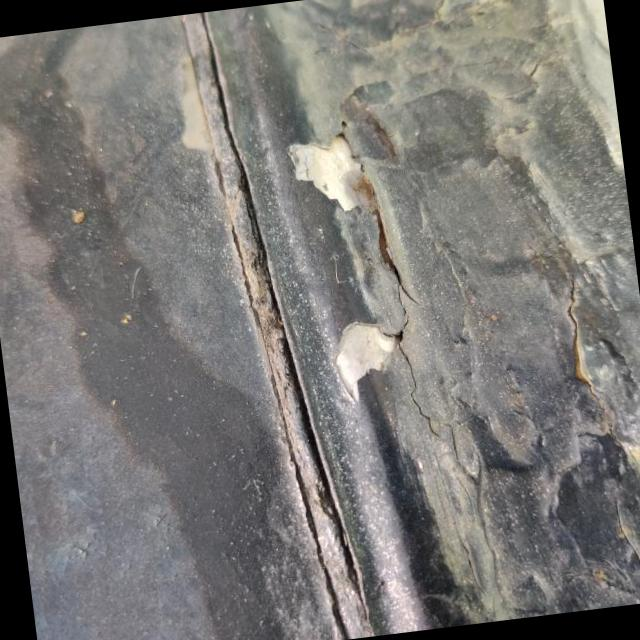Crack: (290, 80, 478, 466), (545, 251, 640, 602)
